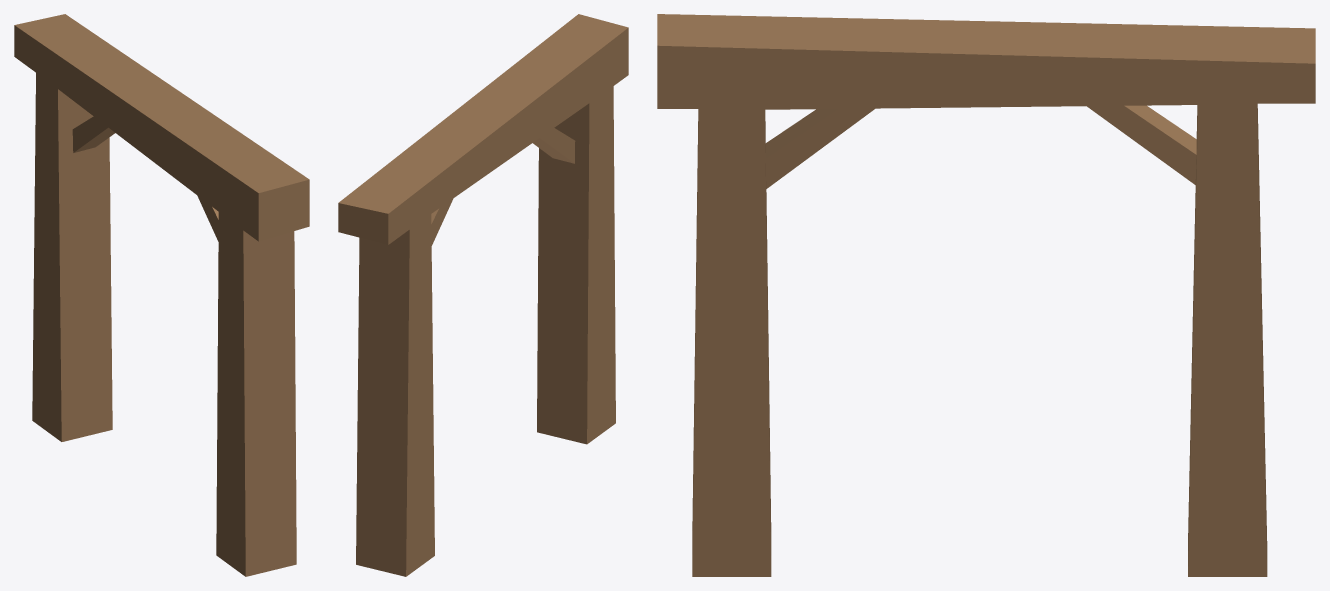
The model's file is MineFrame01.fbx.
3 views of the same model, side by side, from view 1: azimuth 30°, elevation 25°; view 2: azimuth 150°, elevation 25°; view 3: azimuth 270°, elevation 25° (orthographic). The views are drawn at different scales.
Visible parts, largest first — view 1: MineFrame01; view 2: MineFrame01; view 3: MineFrame01.
Part boxes in pixels (x1,y1,x2,y2): MineFrame01: (14,14,309,576); MineFrame01: (338,14,628,576); MineFrame01: (657,14,1315,576).
Size of the model in its own units: 419 by 373 by 50.42.
